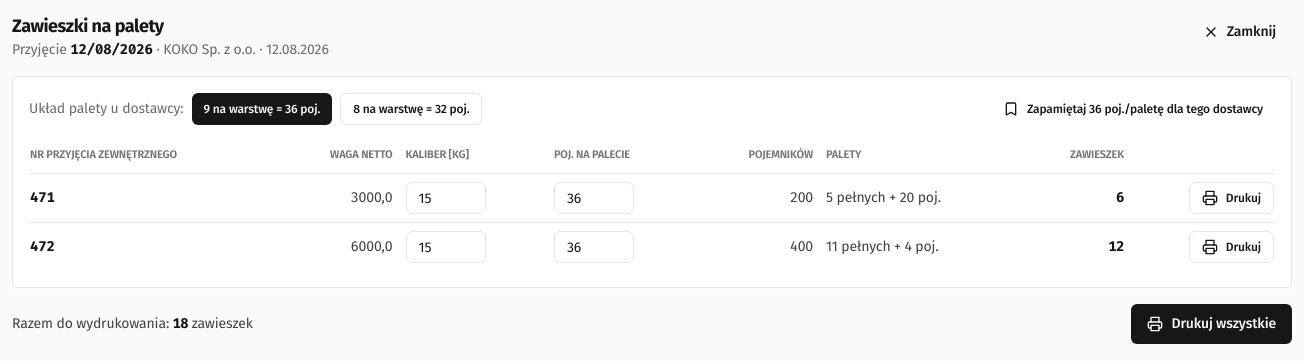
ReceptionTags — ile zawieszek na dostawę › zmiana układu palety przelicza zawieszki od razu
Replace the text in the number field named "Pojemników na palecie 471" with "32": (594, 198) [554,182,634,214]
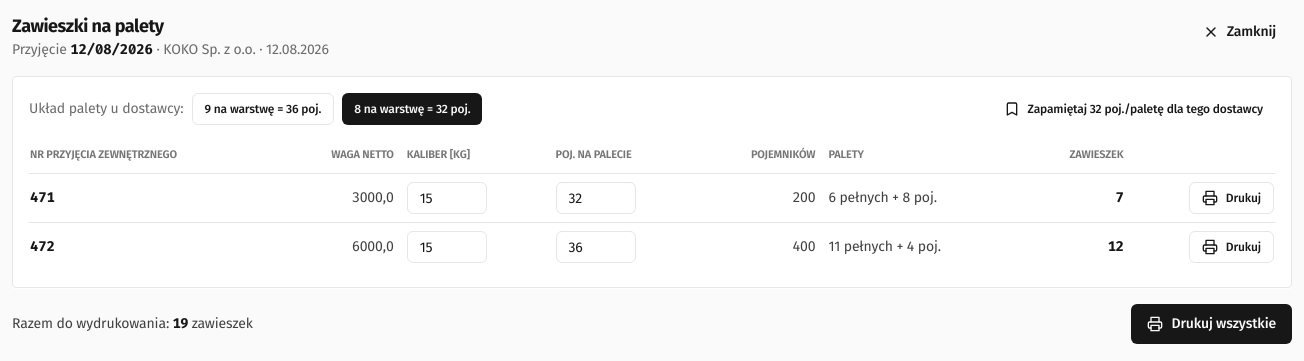
Expected: the cell named "Zawieszek 472" reads "12", [1108,238,1123,255]
Expected: the cell named "Zawieszek 471" reads "7", [1116,189,1123,206]
